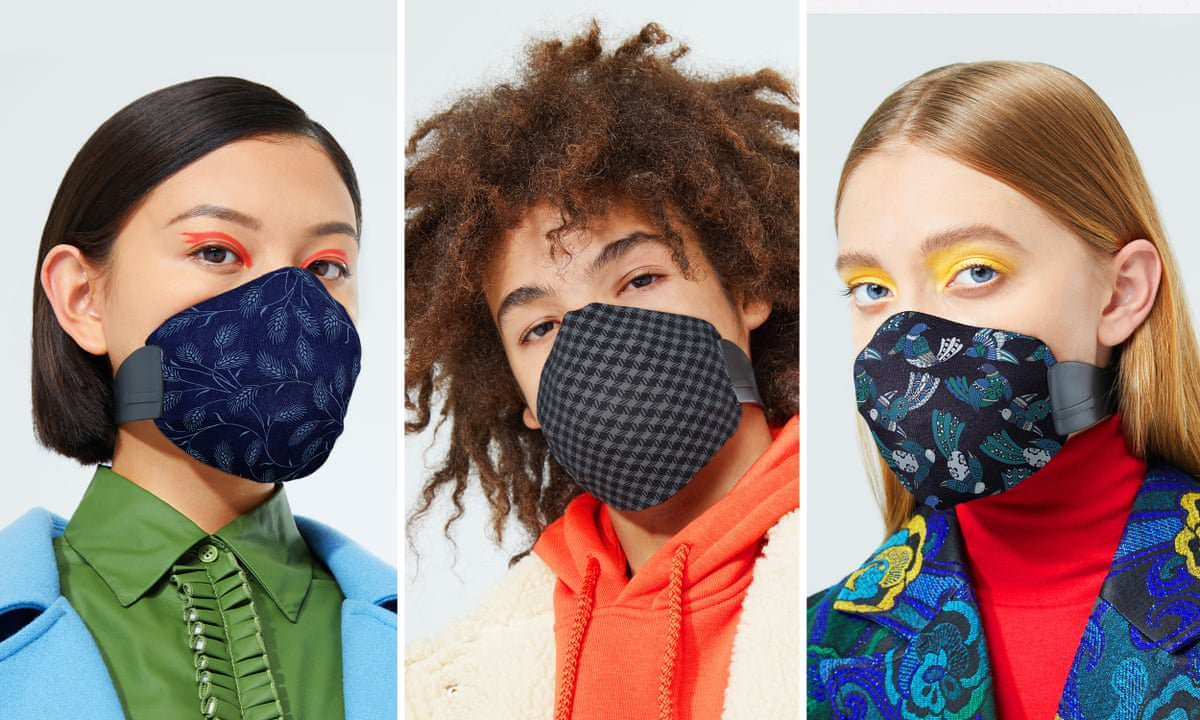mask: (420, 50, 784, 534), (824, 35, 1173, 507), (6, 48, 385, 478)
